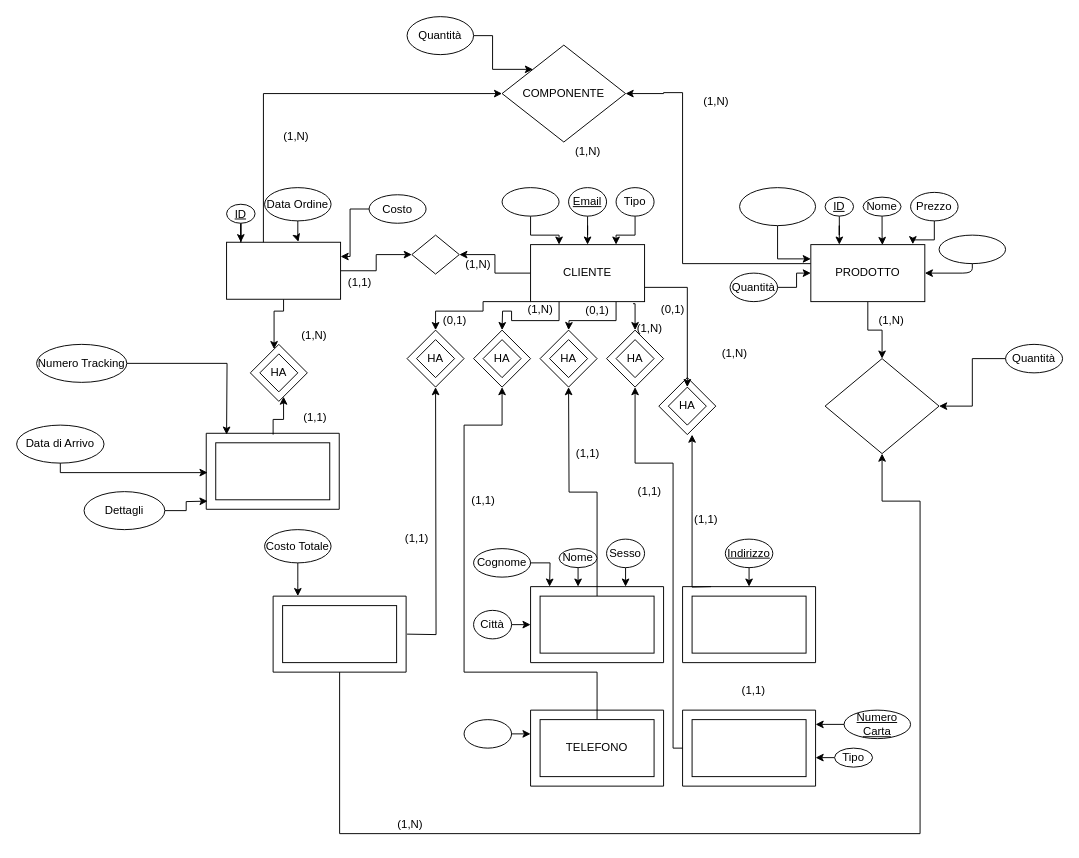
Some shapes in this 1079 by 858 pixel diagram are drawn without their labels. The centre of each missing label's shape, as x and y in pixels:
Carrello: pixel 339 634
CONTENUTO: pixel 881 406
DATI ANAGRAFICI: pixel 596 624
Descrizione: pixel 972 249
FA: pixel 435 254
INDIRIZZO DI SPEDIZIONE: pixel 748 624
METODI DI PAGAMENTO: pixel 748 748
METODO DI SPEDIZIONE: pixel 272 471
Numero: pixel 487 733
ORDINE: pixel 283 270
Password: pixel 530 201
URLImmagine: pixel 777 206
